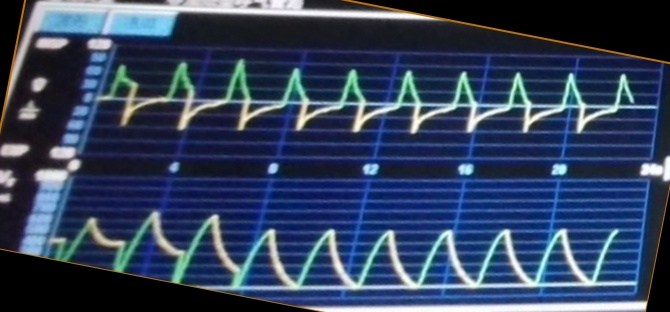Flow: (110, 59, 643, 160)
Leakage Volume: (61, 203, 626, 297)
